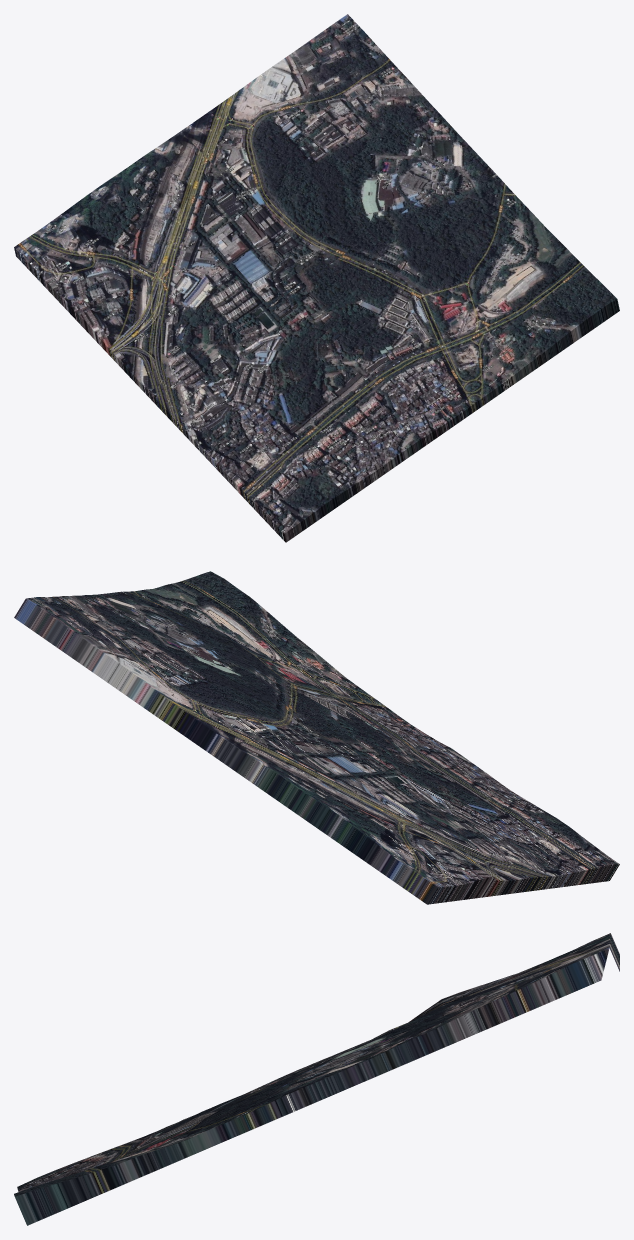
The picture shows the model from 3 angles, top to bottom: view 1: azimuth 30°, elevation 25°; view 2: azimuth 150°, elevation 25°; view 3: azimuth 270°, elevation 25°; orthographic projection. The views are drawn at different scales.
Visible parts, largest first — view 1: 1_2_8; view 2: 1_2_8; view 3: 1_2_8.
Part boxes in pixels (x1=…): 1_2_8: x1=14, y1=14, x2=619, y2=542; 1_2_8: x1=14, y1=571, x2=619, y2=904; 1_2_8: x1=14, y1=933, x2=619, y2=1225.
Size of the model in its own units: 1239 by 927 by 1144.
Materials: 1 (1 with a texture image).
